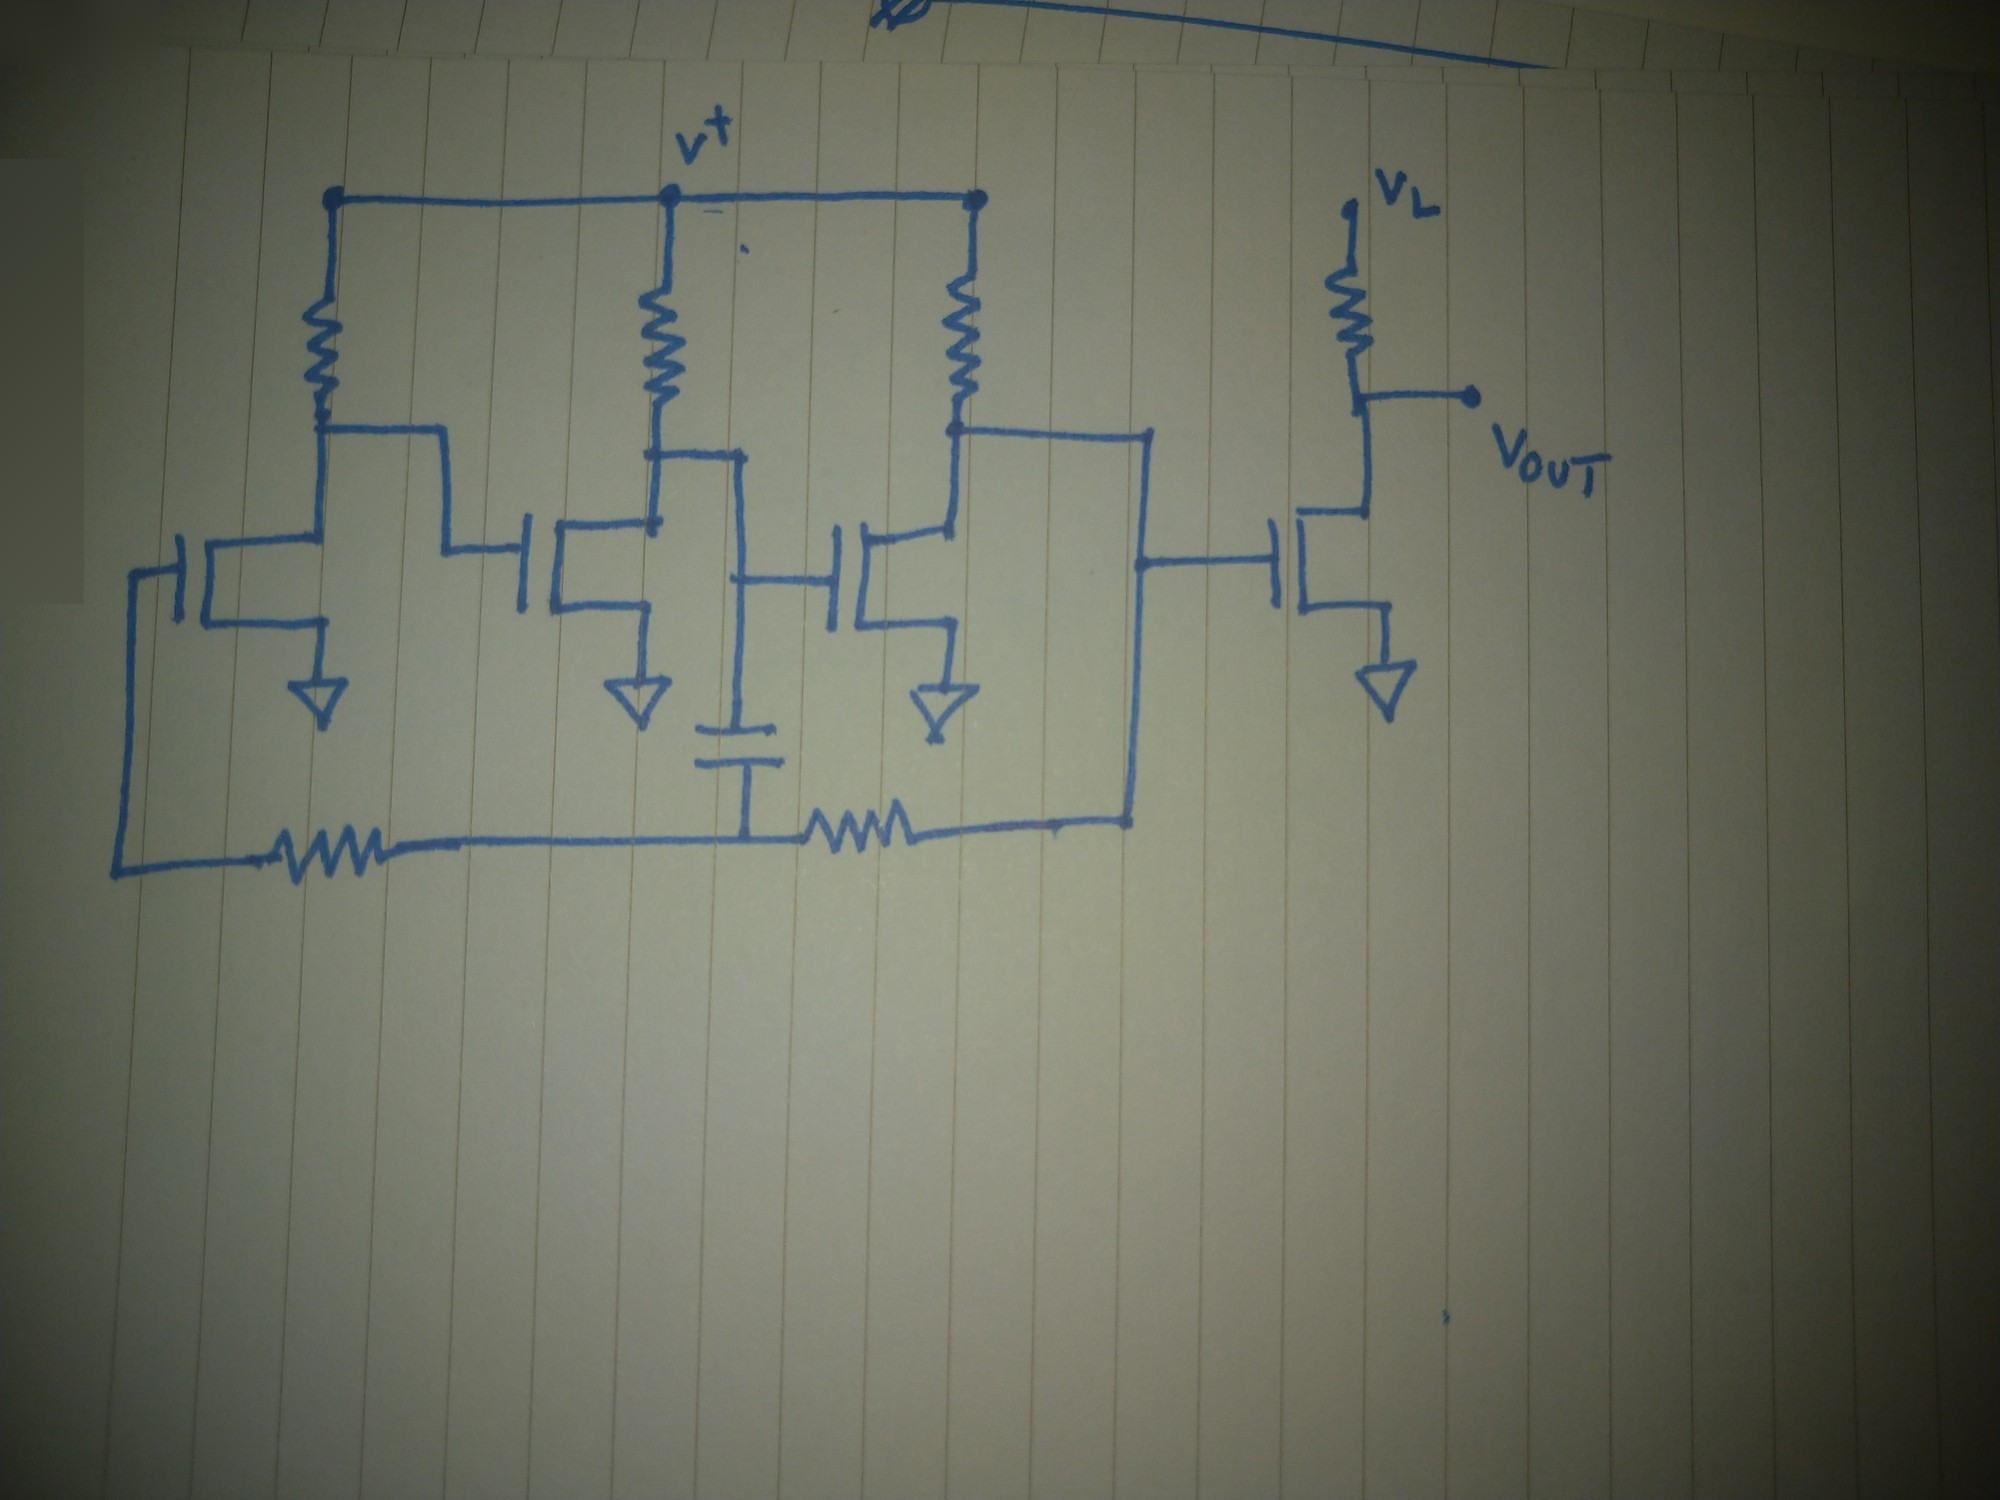capacitor.unpolarized: (687, 715, 798, 777)
gnd: (1353, 657, 1424, 728)
junction: (957, 181, 995, 217), (1345, 386, 1380, 421), (940, 416, 973, 451), (655, 181, 688, 213), (1110, 807, 1140, 837), (1128, 551, 1157, 581), (320, 184, 348, 214), (1132, 422, 1162, 451), (639, 443, 671, 468), (728, 567, 754, 594), (430, 414, 452, 444), (731, 443, 753, 470), (732, 826, 754, 849), (435, 539, 460, 559), (309, 418, 331, 440), (123, 564, 143, 588), (104, 862, 124, 884)
resistor: (261, 821, 398, 890), (631, 276, 698, 414), (937, 254, 994, 403), (797, 796, 921, 859), (1320, 254, 1381, 369), (298, 288, 350, 407)
terminal: (906, 678, 986, 745), (598, 668, 676, 737), (280, 673, 354, 734), (1455, 378, 1491, 411), (1331, 194, 1364, 225)
text: (1488, 418, 1611, 504), (668, 96, 743, 165), (1373, 165, 1447, 224)
transistor: (820, 509, 984, 643), (167, 520, 343, 637), (509, 506, 672, 624), (1252, 499, 1405, 622)
